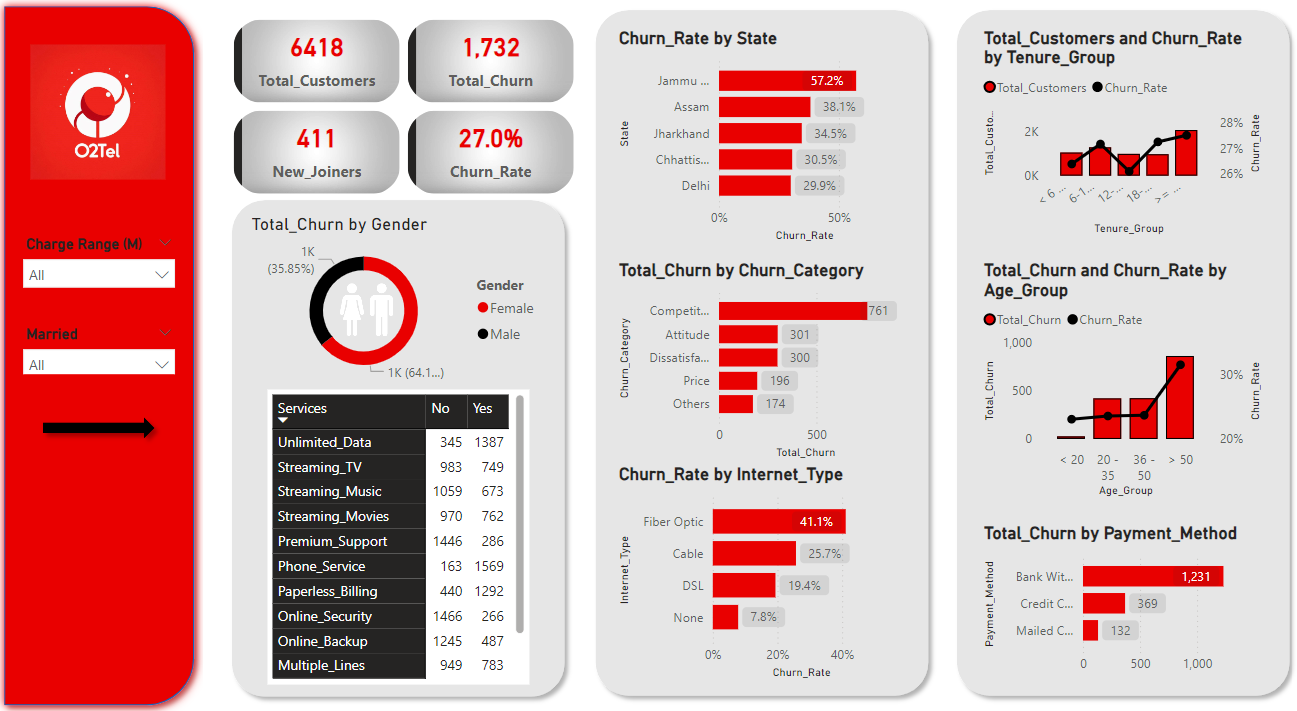

The dashboard page shown, as its layout file describes it:
{"tool":"powerbi","page":{"name":"O2Tel_CC_Dash","canvas":[1280,720],"ordinal":0},"visuals":[{"type":"shape","box":[570.5,18.7,339.1,679.7],"z":0},{"type":"shape","box":[219.8,201.2,339.1,497.2],"z":1000},{"type":"shape","box":[0,14.4,201.2,692.6],"z":2000},{"type":"cardVisual","fields":{"Data":["measures_tcc.Total_Customers","measures_tcc.Total_Churn","measures_tcc.New_Joiners","measures_tcc.Churn_Rate"]},"box":[225.6,31.6,339.1,178.2],"z":3000},{"type":"donutChart","fields":{"Category":["prod_tcc.Gender"],"Y":["measures_tcc.Total_Churn"]},"box":[242.8,223.3,293.1,169.6],"z":4000},{"type":"barChart","fields":{"Y":["measures_tcc.Churn_Rate"],"Category":["prod_tcc.State"]},"box":[597.8,43.1,284.5,212.7],"z":5000},{"type":"barChart","fields":{"Y":["measures_tcc.Total_Churn"],"Category":["prod_tcc.Churn_Category"]},"box":[597.8,267.3,284.5,196.9],"z":6000},{"type":"barChart","fields":{"Y":["measures_tcc.Churn_Rate"],"Category":["prod_tcc.Internet_Type"]},"box":[597.8,464.1,284.5,212.7],"z":7000},{"type":"pivotTable","fields":{"Rows":["prod_tcc_services.Services"],"Columns":["prod_tcc_services.Services_Status"],"Values":["Sum(prod_tcc_services.Churn_Status)"]},"box":[263,392.9,252.9,284.5],"z":8000},{"type":"slicer","fields":{"Values":["prod_tcc_services.Monthly Charge Range"]},"box":[17.2,238.5,166.7,56],"z":9000},{"type":"slicer","fields":{"Values":["prod_tcc_services.Married"]},"box":[17.2,326.2,166.7,53.2],"z":10000},{"type":"shape","box":[919.6,18.7,339.1,679.7],"z":11000},{"type":"lineStackedColumnComboChart","fields":{"Category":["mapping_TenureGrp.Tenure_Group"],"Y":["measures_tcc.Total_Customers"],"Y2":["measures_tcc.Churn_Rate"]},"box":[949.8,43.1,278.8,205.5],"z":12000},{"type":"lineStackedColumnComboChart","fields":{"Category":["mapping_AgeGrp.Age_Group"],"Y":["measures_tcc.Total_Churn"],"Y2":["measures_tcc.Churn_Rate"]},"box":[949.8,267.3,278.8,234.2],"z":13000},{"type":"clusteredBarChart","fields":{"Category":["prod_tcc.Payment_Method"],"Y":["measures_tcc.Total_Churn"]},"box":[949.8,521.6,278.8,155.2],"z":14000},{"type":"image","box":[321.9,278.8,73.3,74.7],"z":15000},{"type":"shape","box":[37.9,411.2,125.4,37.9],"z":16000},{"type":"image","box":[27.7,55.5,143.6,139.9],"z":17000}]}

Visuals, with their boxes in screenshot pixels (x1, y1, x2, y2), scaled from the page's 1280x720 canvas onto the 1297x711 screenshot:
shape: Rect(578, 18, 922, 690)
shape: Rect(223, 199, 566, 690)
shape: Rect(0, 14, 204, 698)
cardVisual - measures_tcc.Total_Customers x measures_tcc.Total_Churn: Rect(229, 31, 572, 207)
donutChart - prod_tcc.Gender x measures_tcc.Total_Churn: Rect(246, 221, 543, 388)
barChart - measures_tcc.Churn_Rate x prod_tcc.State: Rect(606, 43, 894, 253)
barChart - measures_tcc.Total_Churn x prod_tcc.Churn_Category: Rect(606, 264, 894, 458)
barChart - measures_tcc.Churn_Rate x prod_tcc.Internet_Type: Rect(606, 458, 894, 668)
pivotTable - prod_tcc_services.Services x prod_tcc_services.Services_Status: Rect(266, 388, 523, 669)
slicer - prod_tcc_services.Monthly Charge Range: Rect(17, 236, 186, 291)
slicer - prod_tcc_services.Married: Rect(17, 322, 186, 375)
shape: Rect(932, 18, 1275, 690)
lineStackedColumnComboChart - mapping_TenureGrp.Tenure_Group x measures_tcc.Total_Customers: Rect(962, 43, 1245, 245)
lineStackedColumnComboChart - mapping_AgeGrp.Age_Group x measures_tcc.Total_Churn: Rect(962, 264, 1245, 495)
clusteredBarChart - prod_tcc.Payment_Method x measures_tcc.Total_Churn: Rect(962, 515, 1245, 668)
image: Rect(326, 275, 400, 349)
shape: Rect(38, 406, 165, 443)
image: Rect(28, 55, 174, 193)
